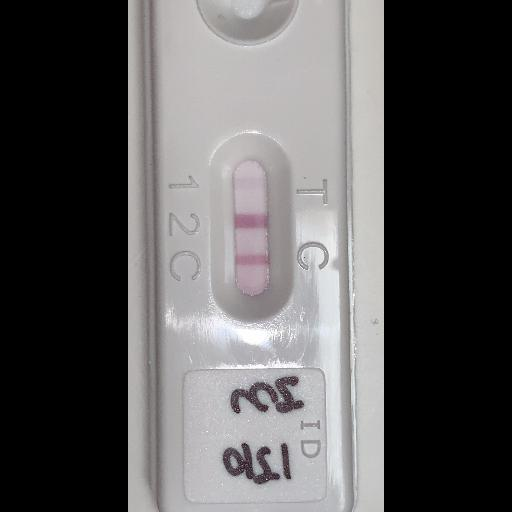Pos: (145, 0, 352, 512)
